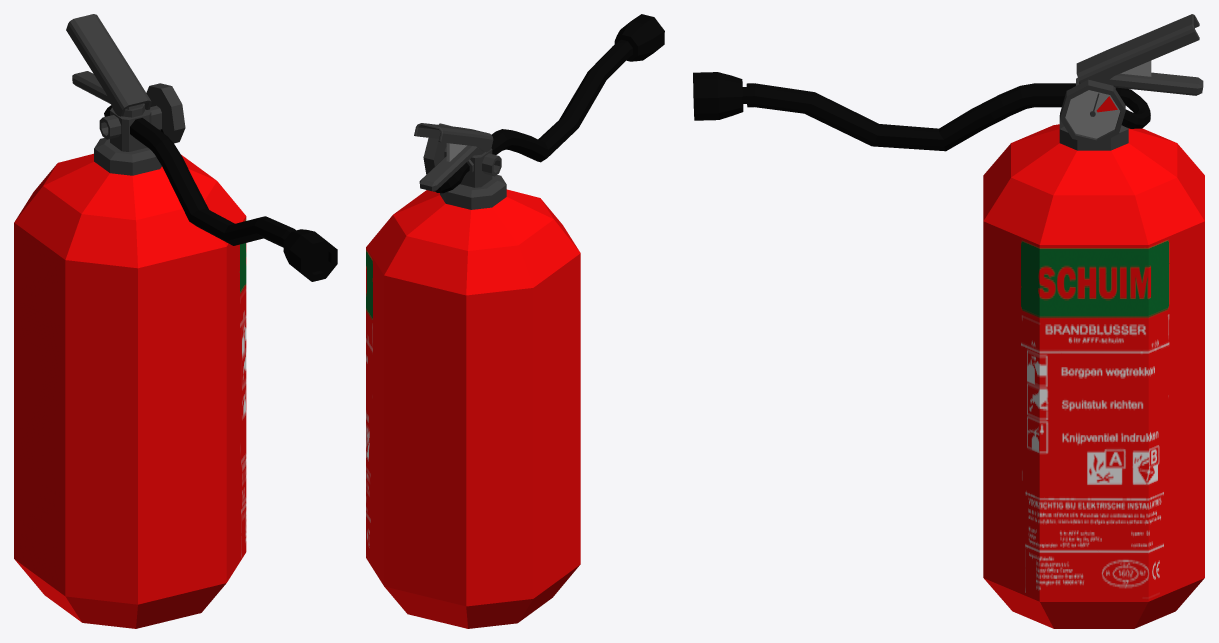
Rendered from schuimblusser_spuit.fbx.
3 views of the same model, side by side, from view 1: azimuth 30°, elevation 25°; view 2: azimuth 150°, elevation 25°; view 3: azimuth 270°, elevation 25° (orthographic). The views are drawn at different scales.
Parts seen in each view (by area): view 1: Cube.001; view 2: Cube.001; view 3: Cube.001.
Boxes of the visible parts, x1,y1,x2,y2 form: Cube.001: [14, 14, 337, 628]; Cube.001: [366, 14, 664, 628]; Cube.001: [693, 14, 1204, 628].
Bounding box in the file's own units: 470 × 1388 × 1086.
4 materials, 1 textured.
